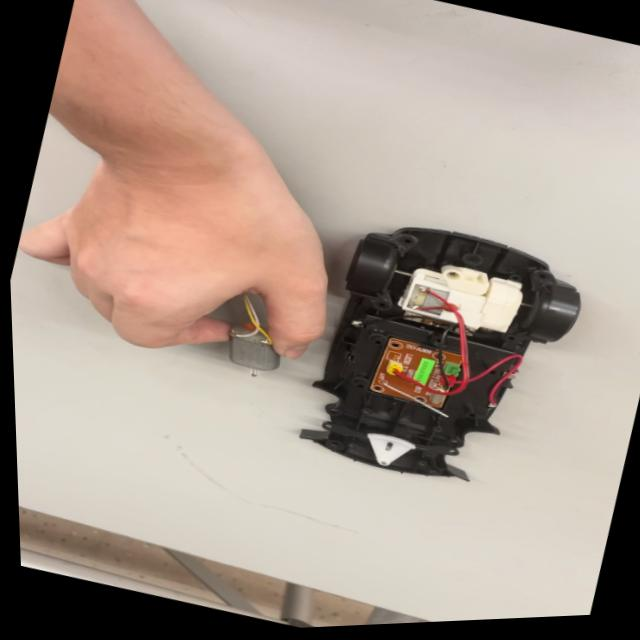Chassis: (291, 199, 584, 512)
motor: (208, 309, 305, 391)
